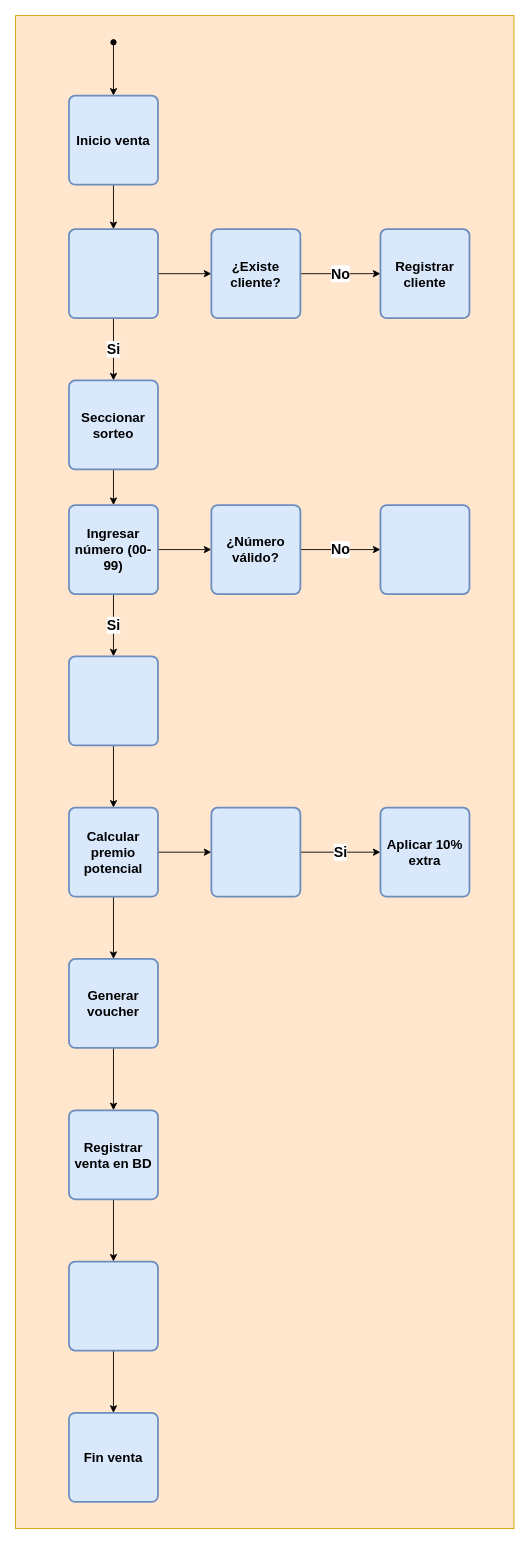
Image size: 530x1544. Some labels were removed from this diagram. The centre of each missing label's shape, as x and y in pixels:
Imprimir / Mostrar voucher: (x=113, y=1305)
Ingresar monto: (x=113, y=700)
Mostrar error: (x=424, y=549)
Seccionar ciente: (x=113, y=273)
¿Es cumpleaños?: (x=255, y=851)
